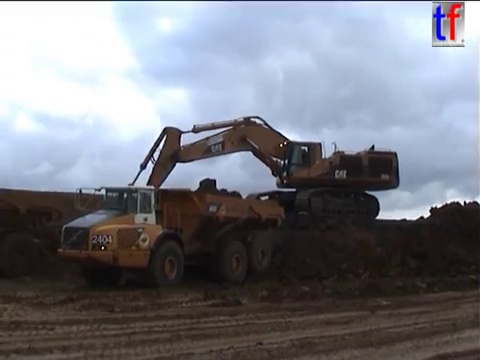excavator: (114, 113, 403, 238)
truck: (54, 178, 289, 291), (1, 184, 160, 281)
